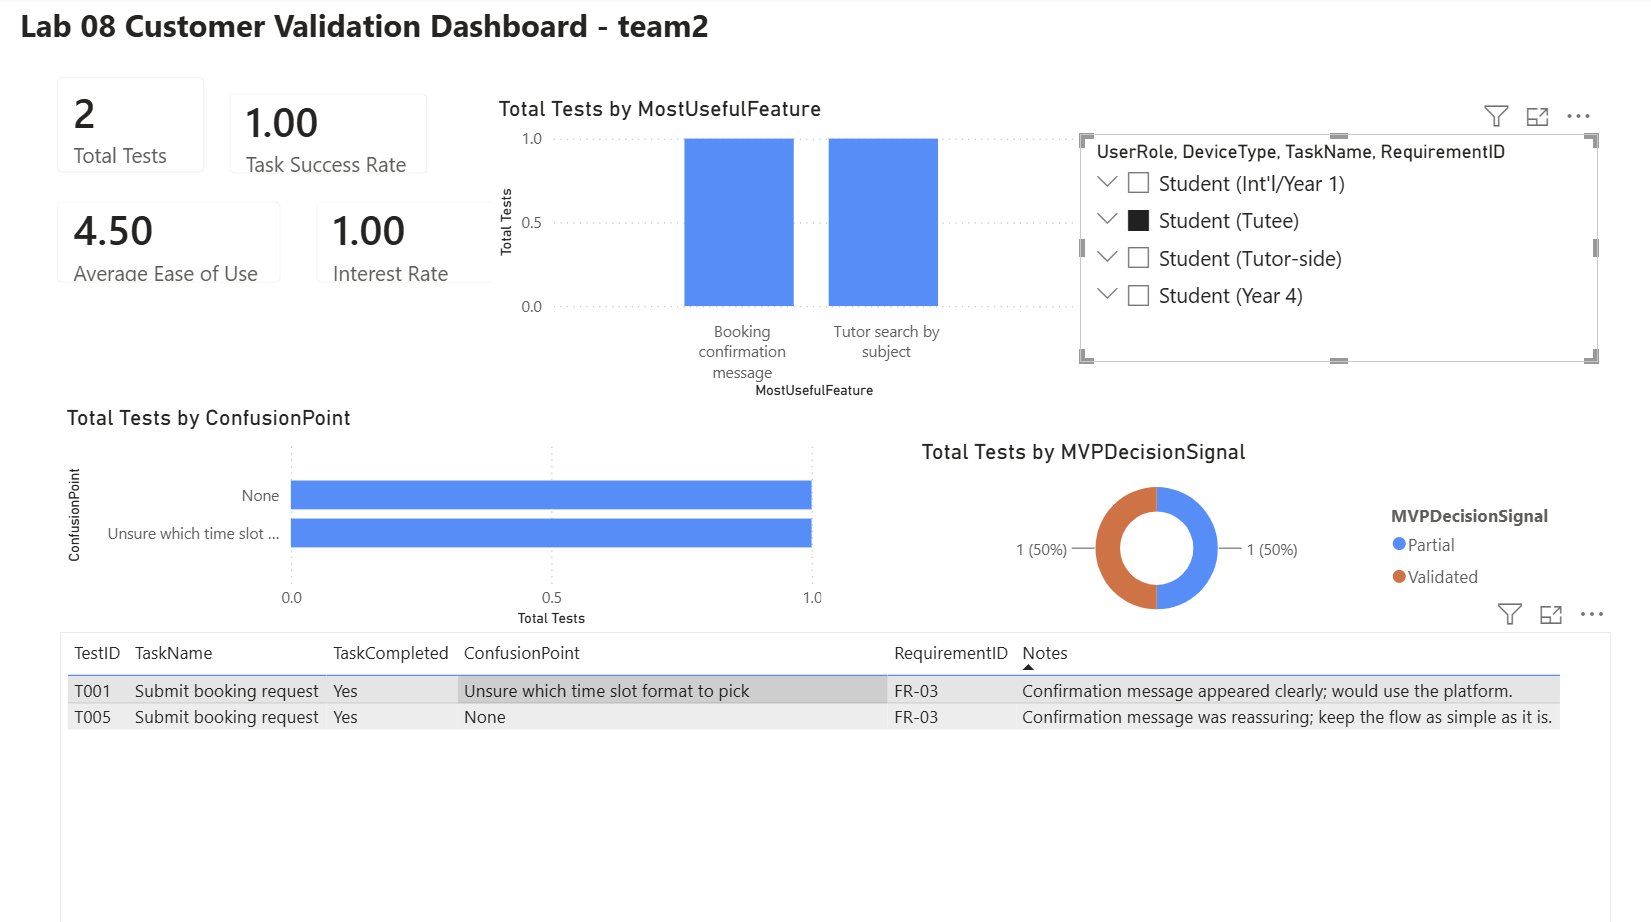

Layout of this report page (visuals, bound fields, positions):
{"tool":"powerbi","page":{"name":"Validation Dashboard","canvas":[1280,720],"ordinal":0},"visuals":[{"type":"textbox","box":[10.4,0,640.8,76.5],"z":0},{"type":"cardVisual","fields":{"Data":["ValidationResults.Total Tests"]},"box":[26.7,45.2,148.3,108.9],"z":1000},{"type":"cardVisual","fields":{"Data":["ValidationResults.Task Success Rate"]},"box":[159.9,57.9,187.7,96.2],"z":2000},{"type":"cardVisual","fields":{"Data":["ValidationResults.Average Ease of Use"]},"box":[26.7,141.4,207.4,97.3],"z":3000},{"type":"cardVisual","fields":{"Data":["ValidationResults.Interest Rate"]},"box":[227.1,141.4,173.8,97.3],"z":4000},{"type":"clusteredBarChart","fields":{"Category":["ValidationResults.ConfusionPoint"],"Y":["ValidationResults.Total Tests"]},"box":[46.3,315.2,593.3,176.1],"z":5000},{"type":"clusteredColumnChart","fields":{"Category":["ValidationResults.MostUsefulFeature"],"Y":["ValidationResults.Total Tests"]},"box":[380.1,76.5,454.2,238.7],"z":5001},{"type":"donutChart","fields":{"Category":["ValidationResults.MVPDecisionSignal"],"Y":["ValidationResults.Total Tests"]},"box":[706.8,341.8,508.7,149.5],"z":5002},{"type":"tableEx","fields":{"Values":["ValidationResults.TestID","ValidationResults.TaskName","ValidationResults.TaskCompleted","ValidationResults.ConfusionPoint","ValidationResults.RequirementID","ValidationResults.Notes"]},"box":[46.3,491.3,1198.1,228.3],"z":5003},{"type":"slicer","fields":{"Values":["ValidationResults.UserRole","ValidationResults.DeviceType","ValidationResults.TaskName","ValidationResults.RequirementID"]},"box":[834.3,106.6,399.8,176.1],"z":5004}]}

Visuals, with their boxes in screenshot pixels (x1, y1, x2, y2), scaled from the page's 1280x720 canvas onto the 1651x922 screenshot:
textbox: (13,0,840,98)
cardVisual - ValidationResults.Total Tests: (34,58,226,197)
cardVisual - ValidationResults.Task Success Rate: (206,74,448,197)
cardVisual - ValidationResults.Average Ease of Use: (34,181,302,306)
cardVisual - ValidationResults.Interest Rate: (293,181,517,306)
clusteredBarChart - ValidationResults.ConfusionPoint x ValidationResults.Total Tests: (60,404,825,629)
clusteredColumnChart - ValidationResults.MostUsefulFeature x ValidationResults.Total Tests: (490,98,1076,404)
donutChart - ValidationResults.MVPDecisionSignal x ValidationResults.Total Tests: (912,438,1568,629)
tableEx - ValidationResults.TestID x ValidationResults.TaskName: (60,629,1605,921)
slicer - ValidationResults.UserRole x ValidationResults.DeviceType: (1076,137,1592,362)
